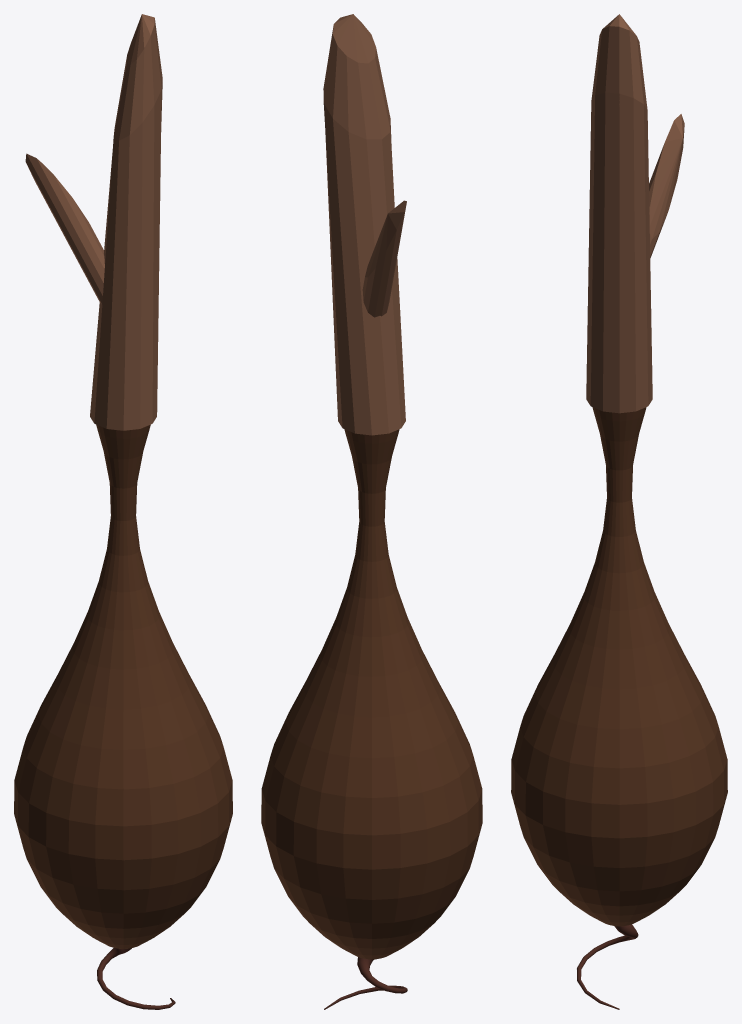
The model's file is Wand 969.glb.
The picture shows the model from 3 angles, left to right: view 1: azimuth 30°, elevation 25°; view 2: azimuth 150°, elevation 25°; view 3: azimuth 270°, elevation 25°; orthographic projection. The views are drawn at different scales.
Visible parts, largest first — view 1: GeneratedWand; view 2: GeneratedWand; view 3: GeneratedWand.
Boxes of the visible parts, x1,y1,x2,y2 form: GeneratedWand: (14, 14, 232, 1009); GeneratedWand: (261, 14, 482, 1009); GeneratedWand: (511, 14, 727, 1009).
Size of the model in its own units: 0.1026 by 0.5129 by 0.1026.
